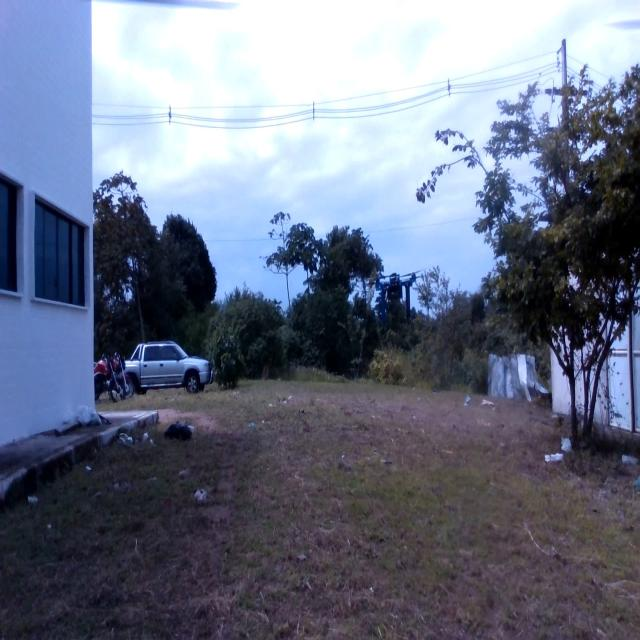-uav-: (366, 259, 429, 328)
